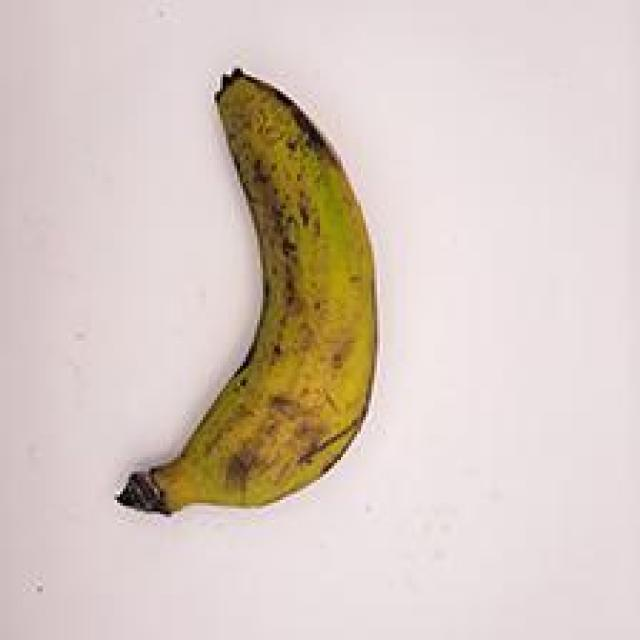Overripe: (109, 42, 408, 547)
